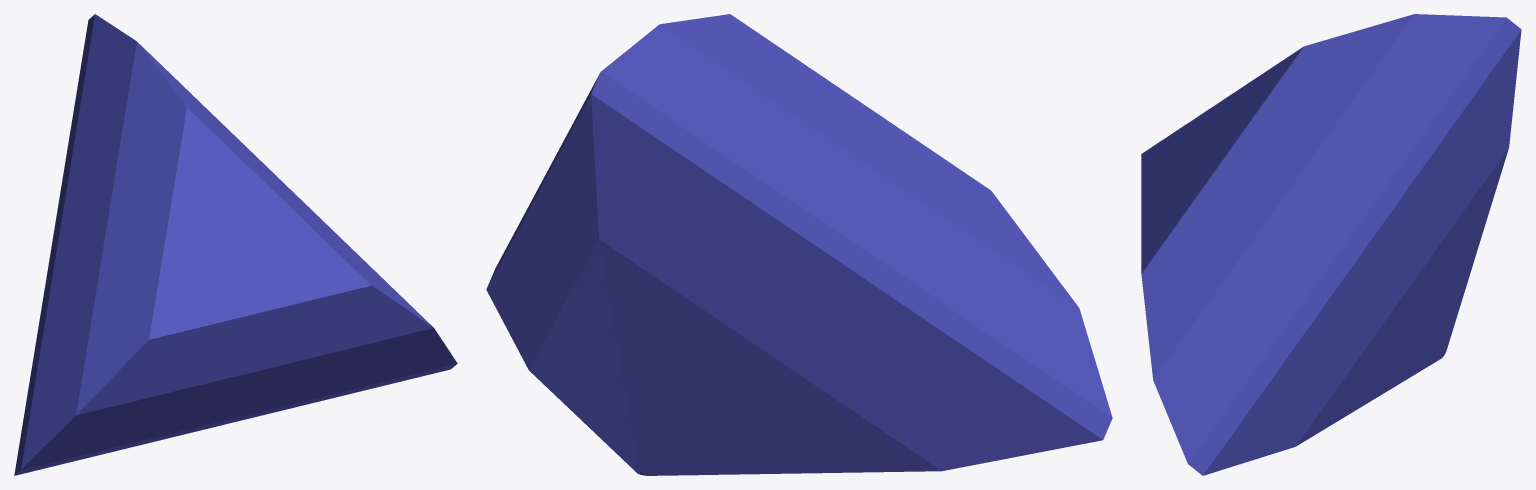
The model's file is tanzanite.glb.
The picture shows the model from 3 angles, left to right: view 1: azimuth 30°, elevation 25°; view 2: azimuth 150°, elevation 25°; view 3: azimuth 270°, elevation 25°; orthographic projection. The views are drawn at different scales.
Parts seen in each view (by area): view 1: tanzanite; view 2: tanzanite; view 3: tanzanite.
Part boxes in pixels (bbox=[...]): tanzanite: bbox=[14, 14, 457, 475]; tanzanite: bbox=[486, 14, 1112, 475]; tanzanite: bbox=[1141, 14, 1521, 475].
Bounding box in the file's own units: 2.4 × 1.68 × 1.64.
